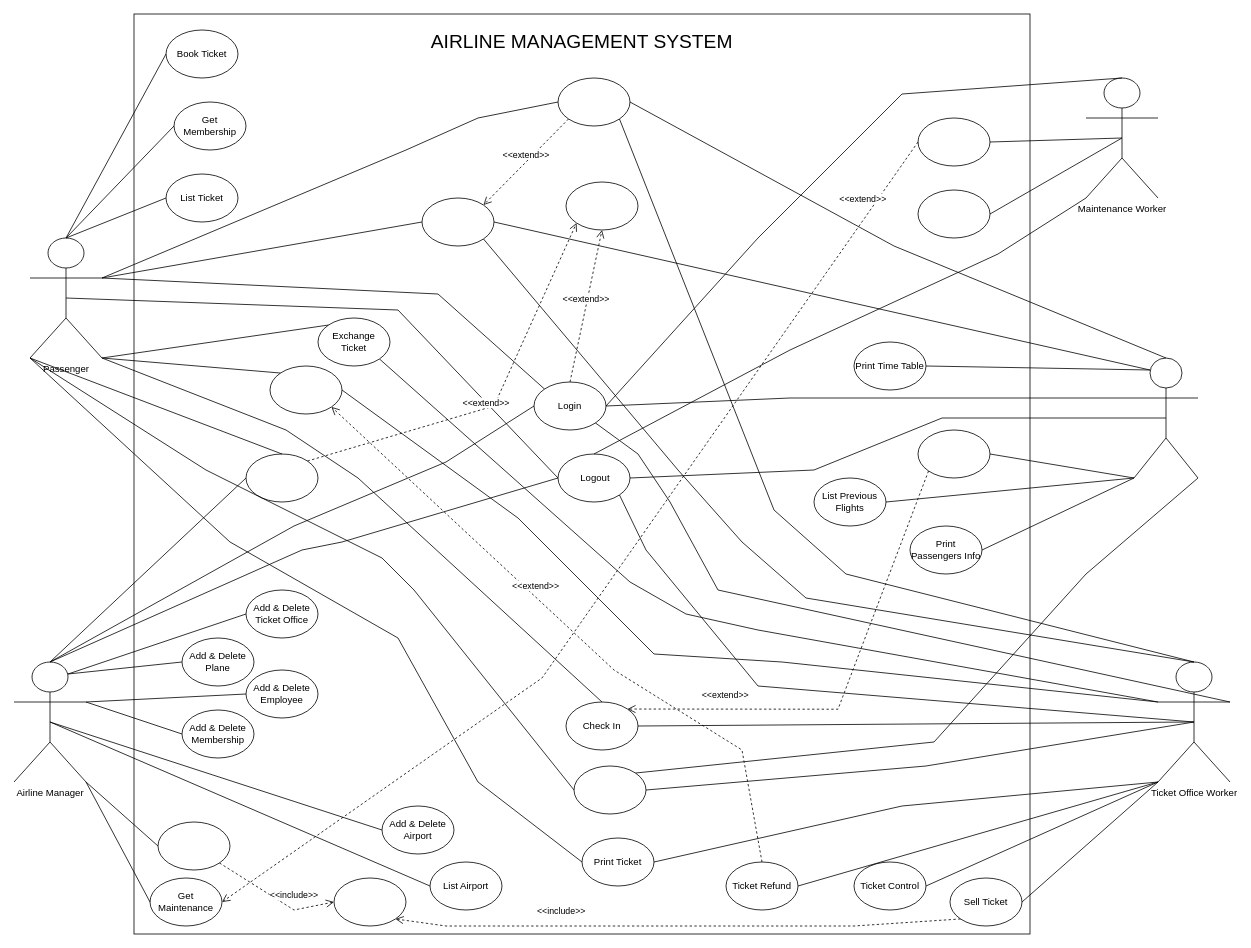
Some shapes in this 1251 by 948 pixel diagram are drawn without their labels. Here are the shapes that lost their labels. From the top down, the centre of each, then its label:
[593,101]: Calculate Extra Luggage Price
[953,141]: List Request Treatments
[457,221]: Get Luggage
[601,205]: Confirm User
[953,213]: Report Maintenance
[305,389]: Cancel Ticket
[1165,417]: Flight Worker
[953,453]: Flight Details
[281,477]: Sign Up
[609,789]: Ticket Inquiry
[193,845]: Add & Delete Flight
[369,901]: Calculate Bonus
